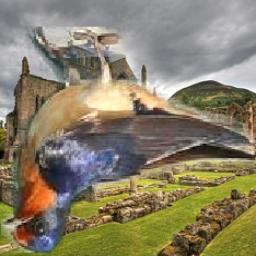Swallow: (1, 28, 255, 254)
